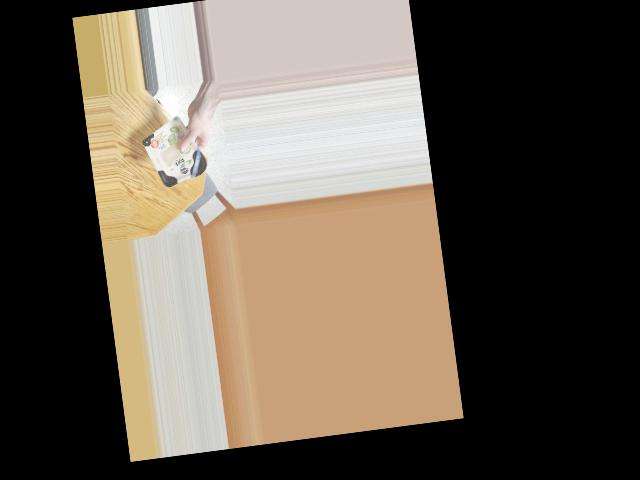cheese: (143, 124, 207, 192)
